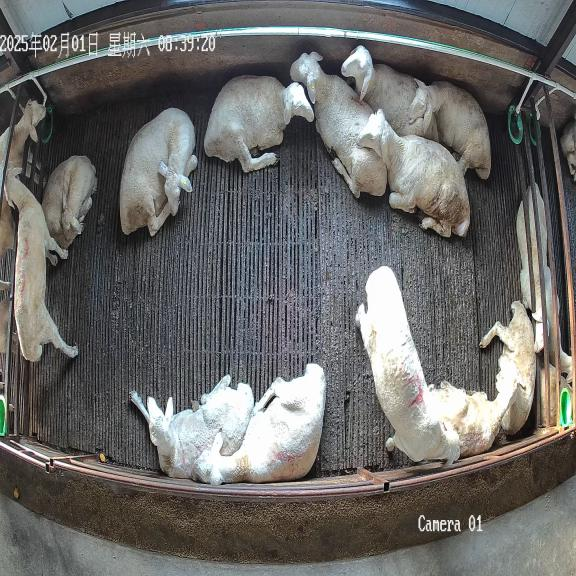lying: (190, 364, 326, 485), (359, 109, 469, 237), (290, 52, 387, 197), (130, 375, 254, 478), (204, 76, 314, 172), (119, 108, 197, 236), (341, 45, 438, 141), (432, 356, 518, 457), (408, 79, 491, 179), (480, 301, 535, 434), (42, 156, 97, 249)
stand: (356, 266, 460, 467), (6, 168, 78, 361)
